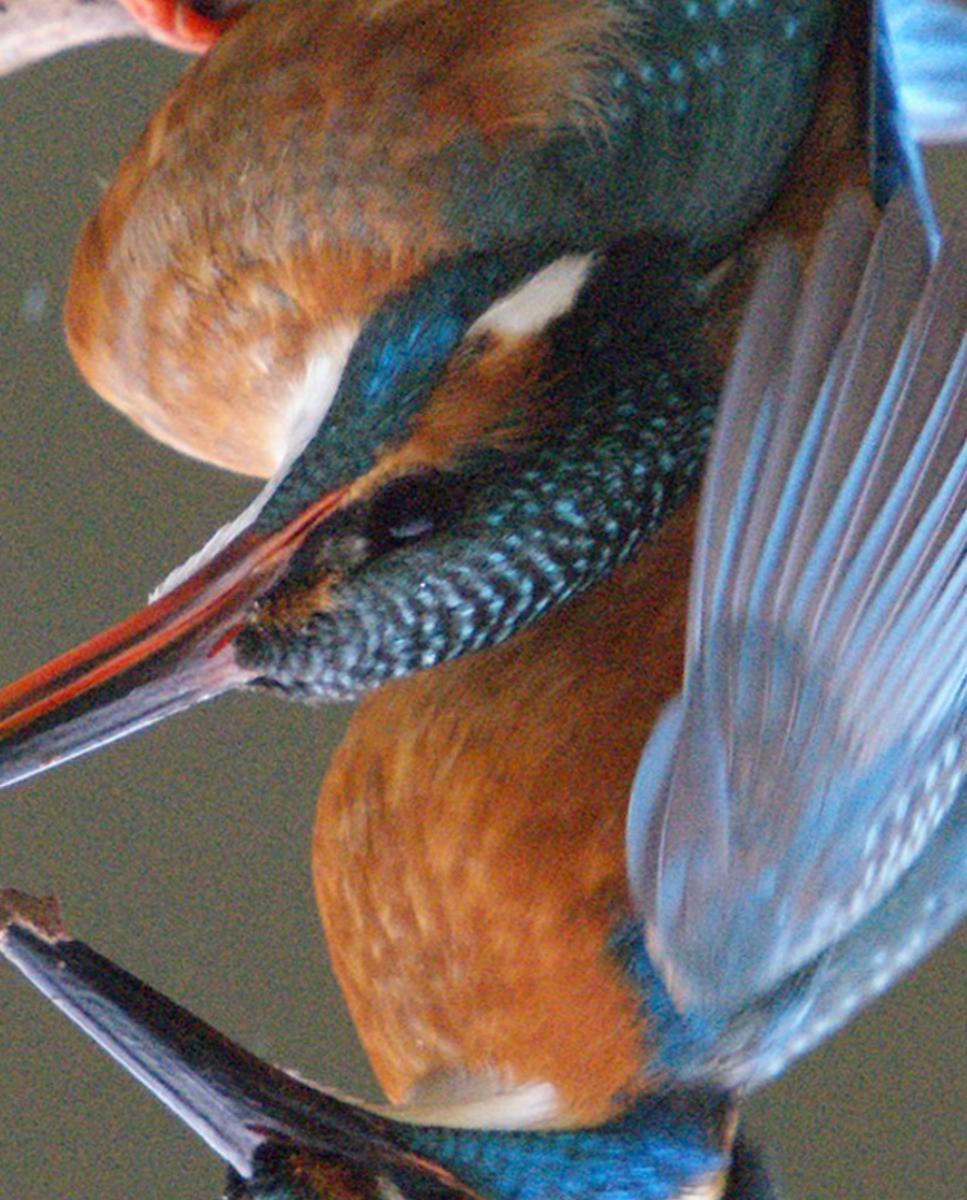kingfisher: (7, 1, 769, 799), (7, 605, 967, 1196)
